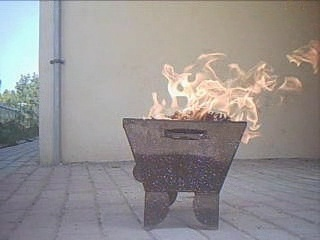fire: (146, 42, 315, 128), (239, 122, 260, 144)
